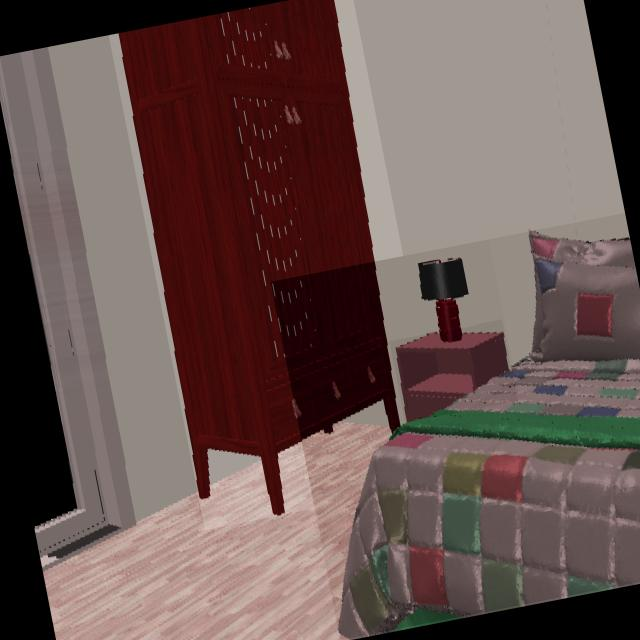bed: (338, 232, 640, 640)
lamp: (417, 259, 471, 342)
nighttable: (396, 333, 509, 422)
pillow: (514, 232, 640, 373)
wardrobe: (118, 0, 397, 515)
